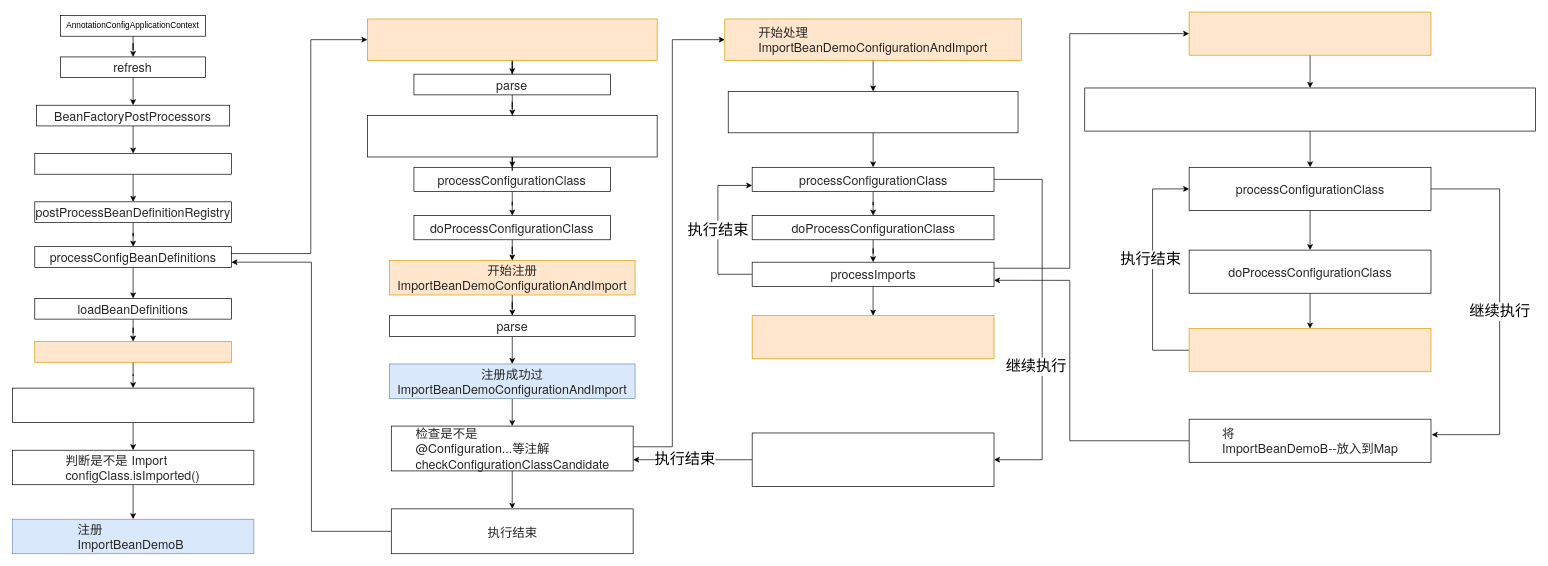
Image size: 1548x566. Some labels were removed from this diagram. The centre of each missing label's shape, as x and y in pixels:
"asConfigClass 会重新创建一个ConfigurationClass将原有的 ConfigurationClass放到一个集合里面" goes at pixel 1309 109.
"invokeBeanFactoryPostProcessors" goes at pixel 132 163.
"loadBeanDefinitionsForConfigurationClass" goes at pixel 133 405.
"parse (@Nullable String className, String beanName)" goes at pixel 873 112.
"parse (AnnotationMetadata metadata, String beanName)" goes at pixel 512 136.
"处理结束" goes at pixel 1309 350.
"将 ImportBeanDemoConfigurationAndImport放入到Map中" goes at pixel 872 459.
"开始处理 ImportBeanDemoB" goes at pixel 1309 33.
"扫描到 ImportBeanDemoB" goes at pixel 872 337.
"根据 @ComponentScan--扫描package" goes at pixel 512 39.
"注册" goes at pixel 132 351.
